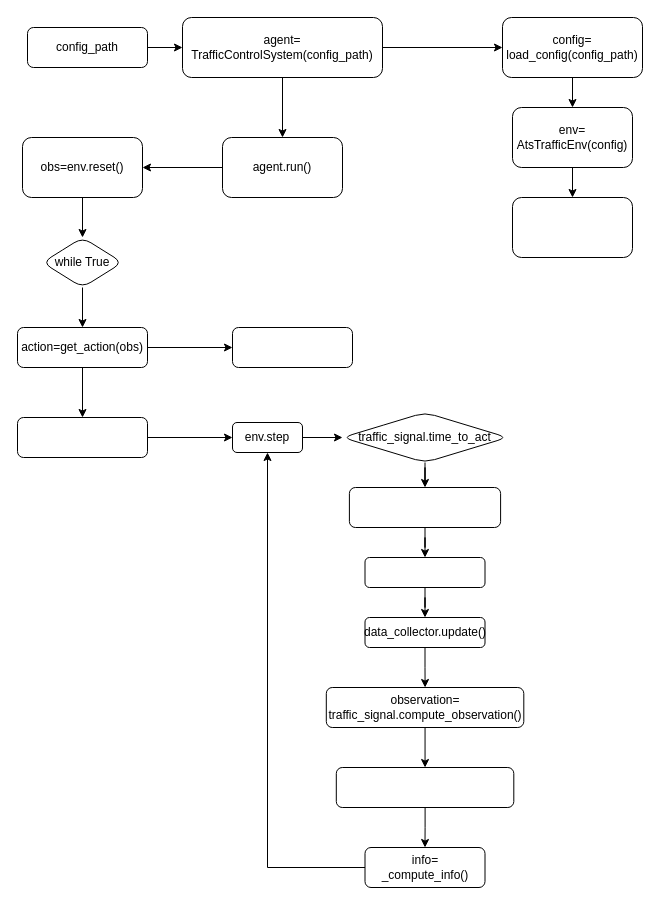
The diagram is 660 pixels wide and 905 high, and some of its shapes have lost their labels. Here are the shapes that lost their labels. From the top down, the centre of each, then its label:
At [572,227]: "model= load_model()".
At [292,347]: "action= model.predict(obs)".
At [82,437]: "obs,reward,dones,info= env.step(action)".
At [424,507]: "traffic_signal .set_next_phase(action)".
At [424,572]: "traffic_signal.update()".
At [424,787]: "reward= traffic_signal.compute_reward()".
